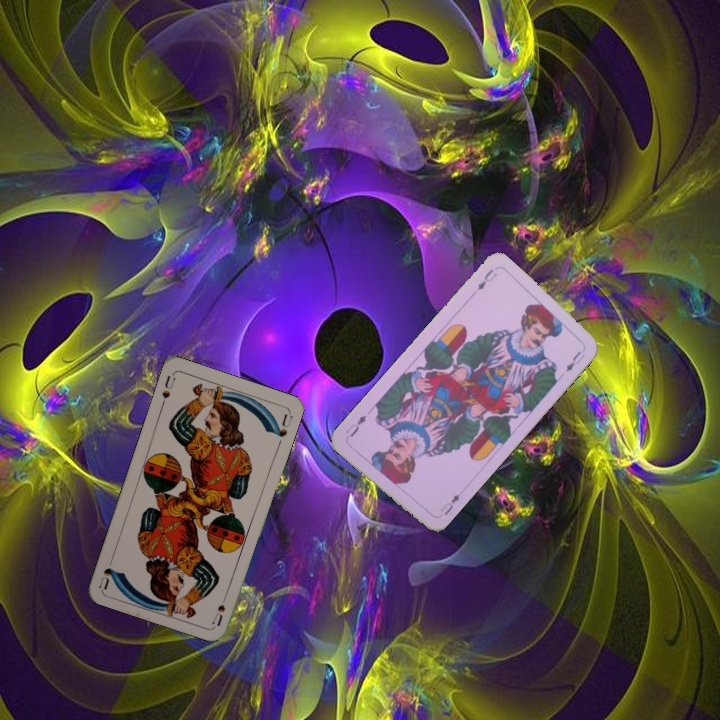EU: (473, 265, 500, 293), (437, 489, 463, 518)
SU: (208, 587, 230, 628), (157, 370, 178, 410)
